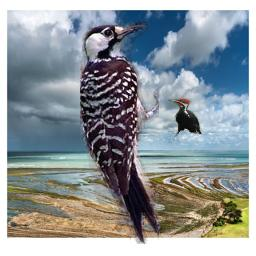Woodpecker: (80, 21, 159, 244), (168, 96, 202, 137)
